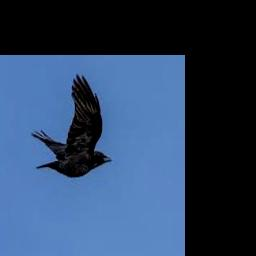Crow: (32, 74, 112, 177)
